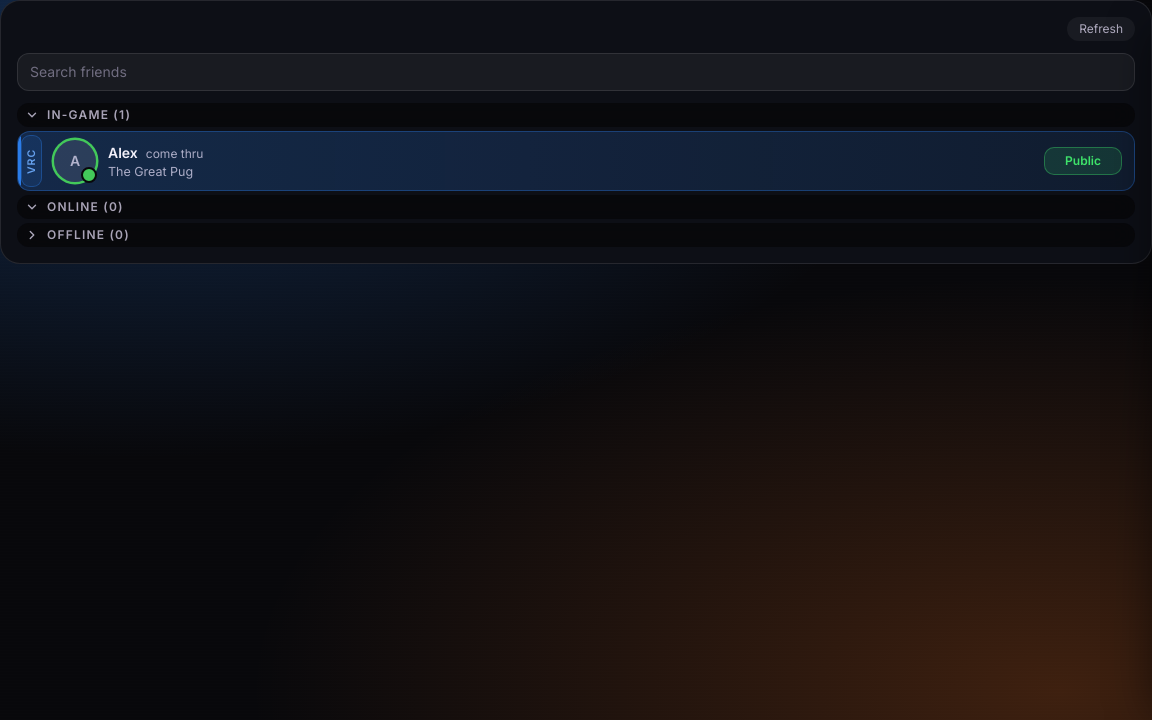
FriendDrawer (VRX-69) › opens on row click with that friend’s data
The image size is (1152, 720).
Click the button "A" at (75,161), box [54,140,96,182]
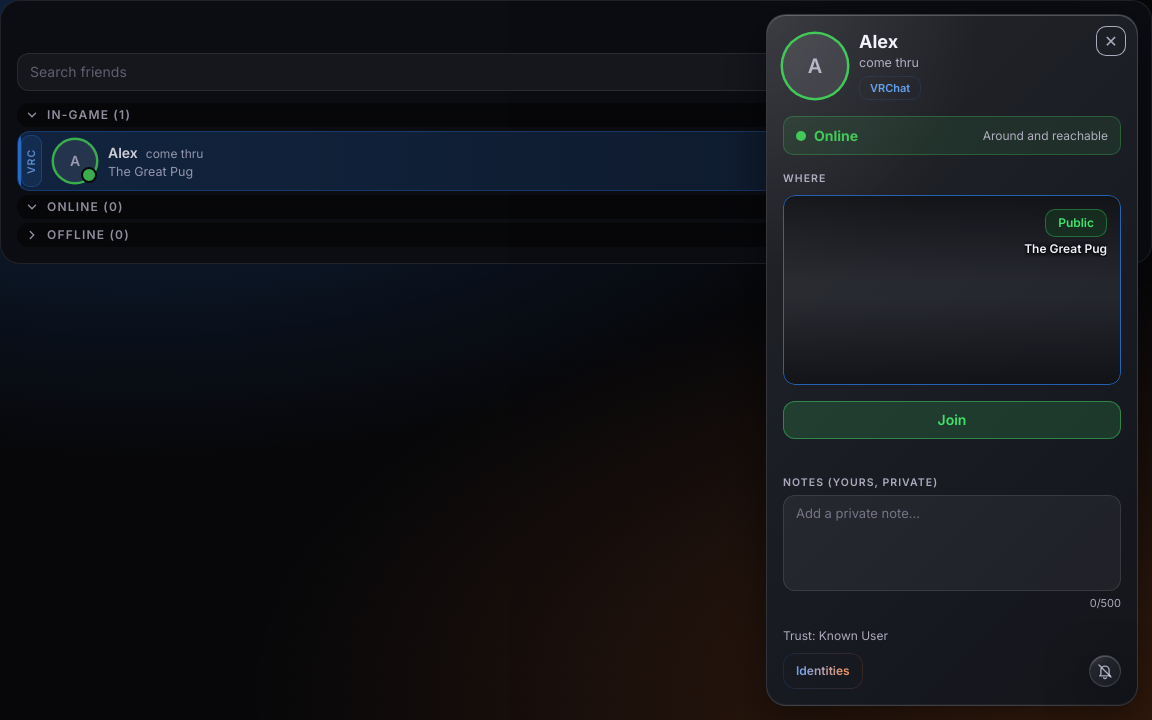
Check: the 1st text "come thru" is shown, box [859,54,921,72]
Check: the text "VRChat" is shown, box [859,76,921,100]
Check: the text "Online" is shown, box [814,125,858,146]
